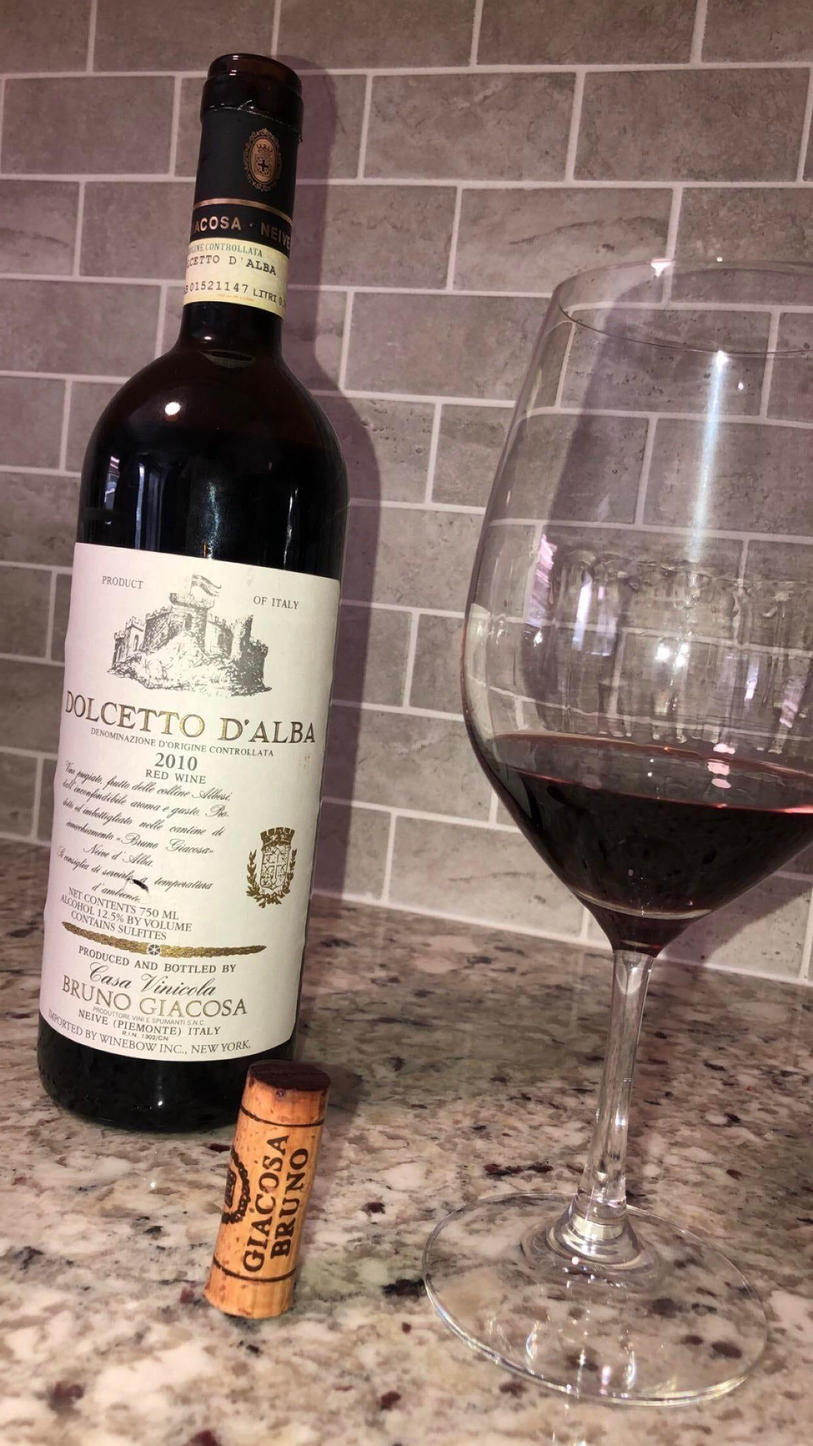bottle-glass: (27, 48, 355, 1123)
glass-wine: (446, 263, 813, 1403)
